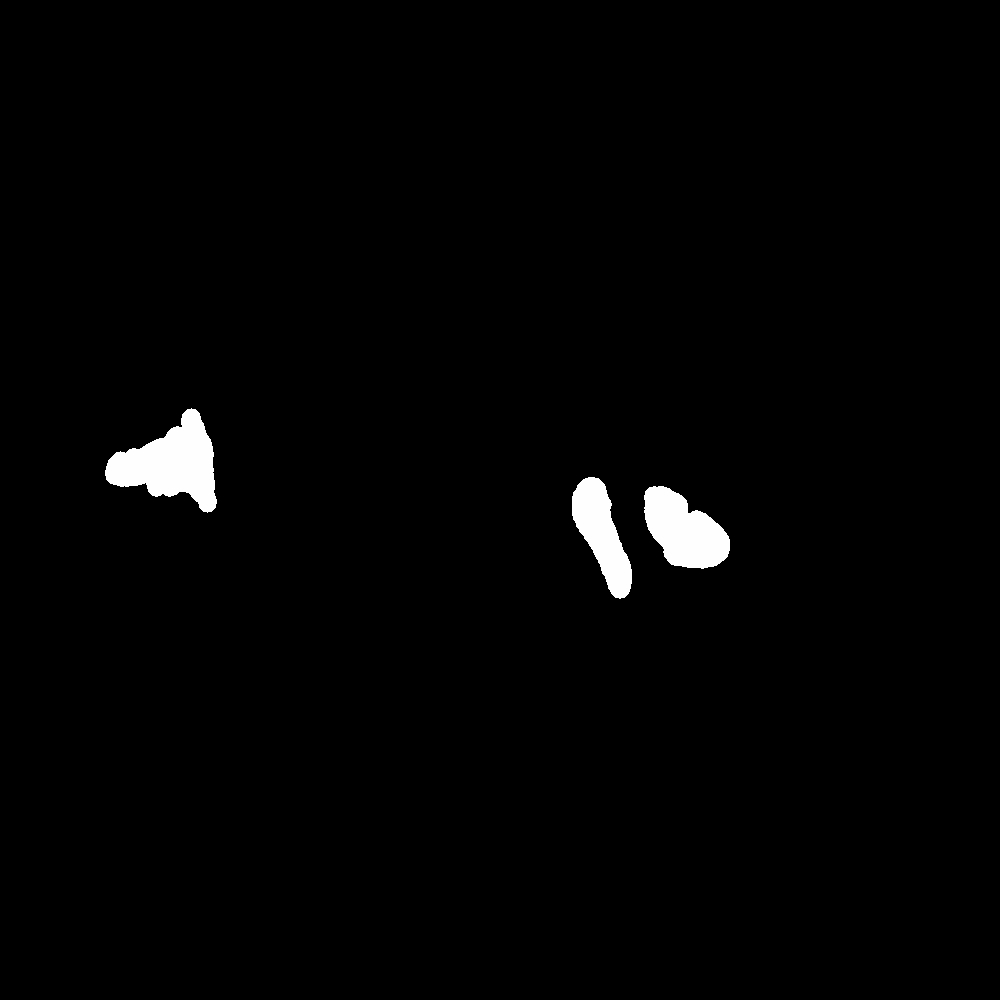illegal: (122, 407, 215, 496), (574, 479, 639, 600)
